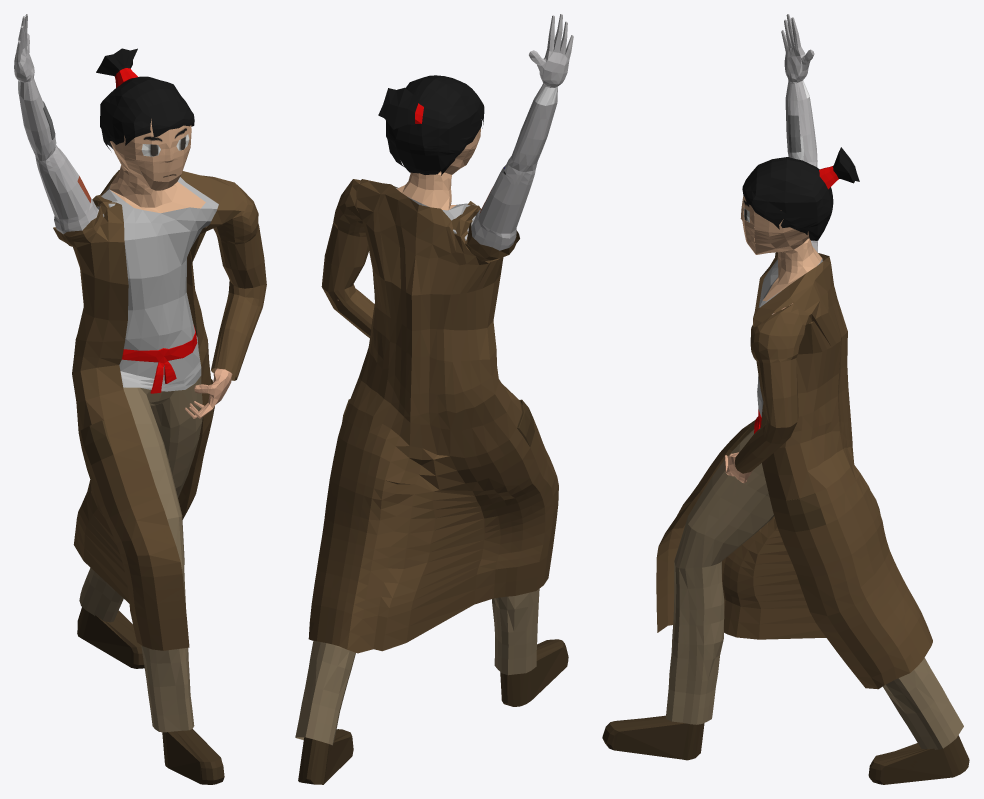
Rendered from Special_Attack_000025.obj.
3 views of the same model, side by side, from view 1: azimuth 30°, elevation 25°; view 2: azimuth 150°, elevation 25°; view 3: azimuth 270°, elevation 25° (orthographic). The views are drawn at different scales.
Visible parts, largest first — view 1: Hair_Cube.004; view 2: Hair_Cube.004; view 3: Hair_Cube.004.
Part boxes in pixels (box(x1,y1,x2,y2)): Hair_Cube.004: box(14, 14, 266, 784); Hair_Cube.004: box(295, 14, 573, 784); Hair_Cube.004: box(602, 14, 969, 784).
Size of the model in its own units: 1.5 by 4.3 by 2.06.
